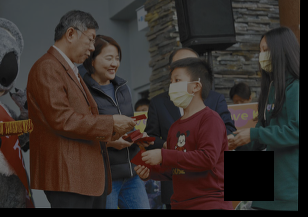with_mask: (168, 73, 195, 109), (258, 44, 275, 74)
without_mask: (71, 32, 97, 65), (95, 52, 122, 80)
